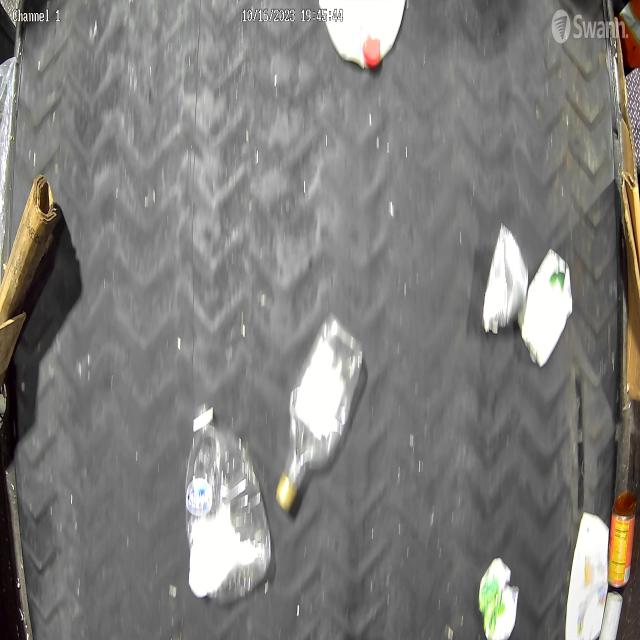can: (517, 247, 575, 369), (482, 222, 530, 335), (478, 555, 520, 640)
milk_jug: (318, 0, 406, 72)
plastic_bottle: (183, 402, 272, 604), (275, 312, 364, 514)
